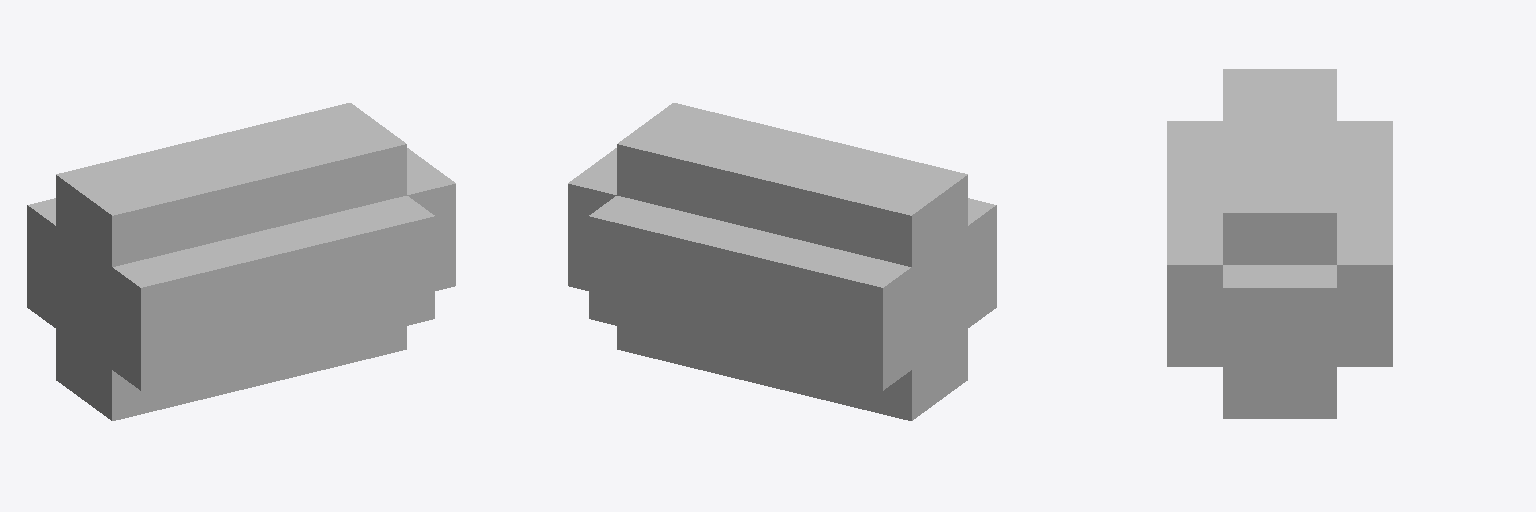
The model's file is bullet.obj.
3 views of the same model, side by side, from view 1: azimuth 30°, elevation 25°; view 2: azimuth 150°, elevation 25°; view 3: azimuth 270°, elevation 25° (orthographic).
Bounding box in the file's own units: 7 × 4 × 4.